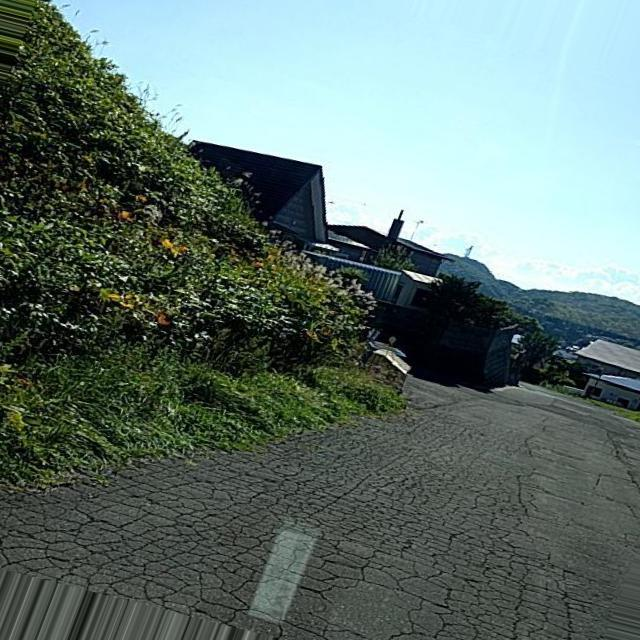Retak Buaya: (0, 412, 572, 640)
